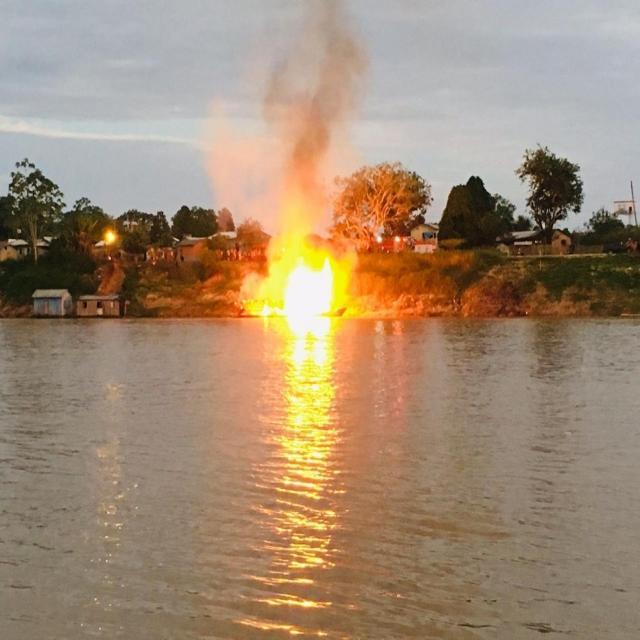Fire: (236, 212, 364, 321), (101, 217, 118, 246)
Smoke: (268, 5, 363, 208)
